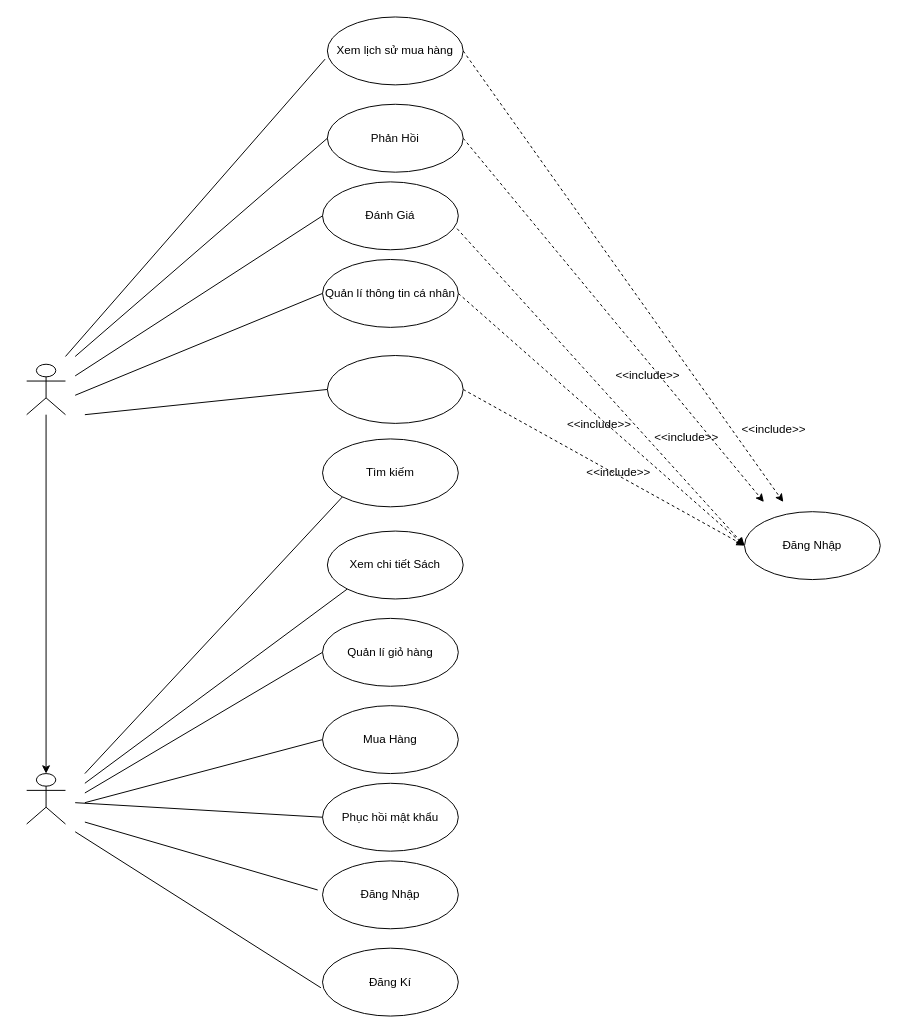
The diagram is 897 pixels wide and 1033 high, and some of its shapes have lost their labels. Each missing label, with the box of its shape:
Khách: (26, 773, 65, 824)
Thành Viên: (26, 363, 65, 415)
Đăng Xuất: (326, 355, 463, 423)
